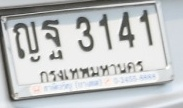txt10: (11, 21, 42, 63)
txt12: (40, 18, 64, 61)
